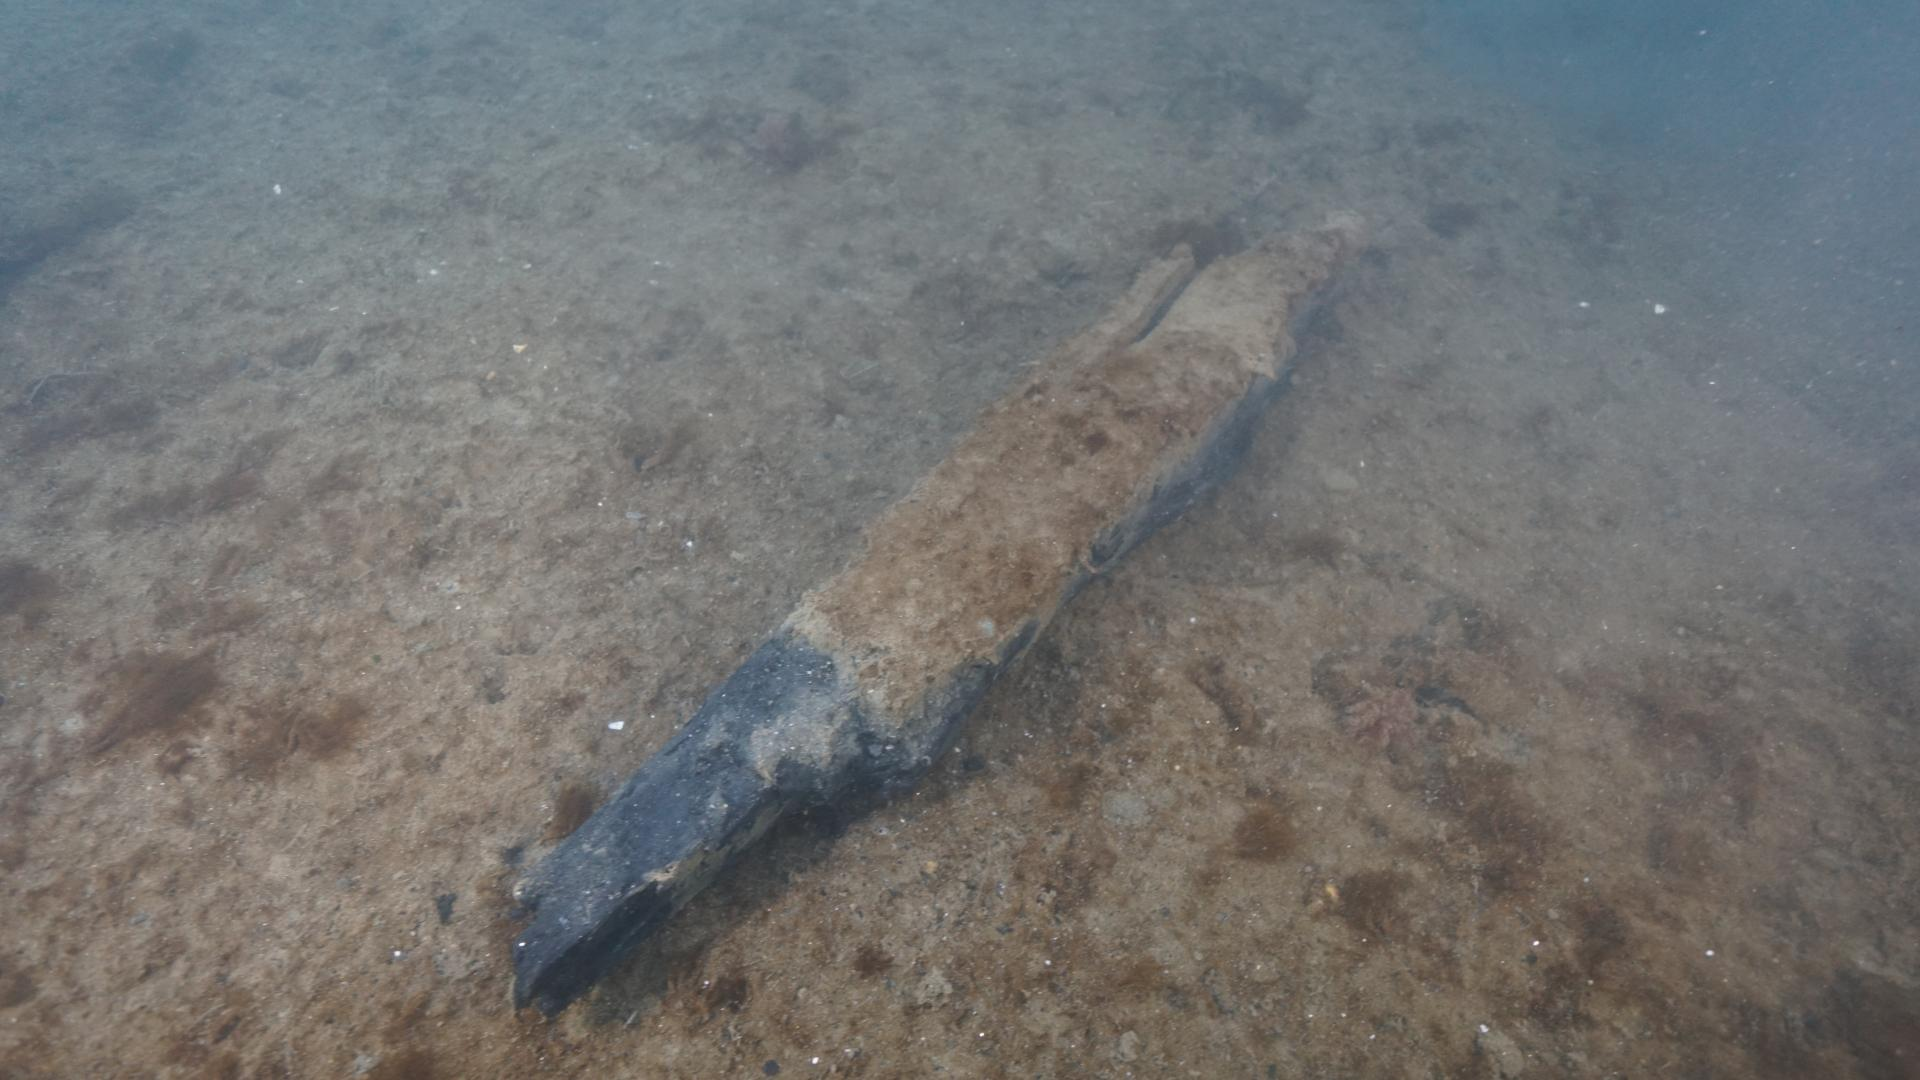wood: (496, 214, 1356, 1025)
